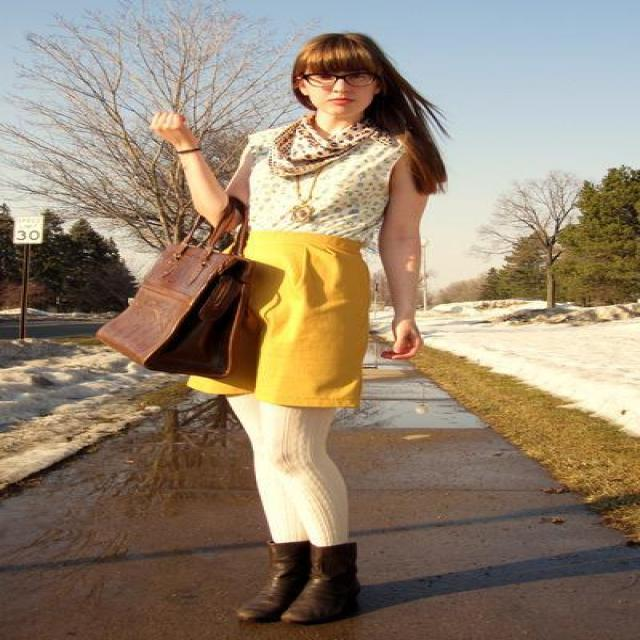bag: (96, 192, 275, 378)
shirt: (240, 120, 395, 242)
shoe: (242, 540, 363, 623)
skirt: (187, 226, 402, 407)
